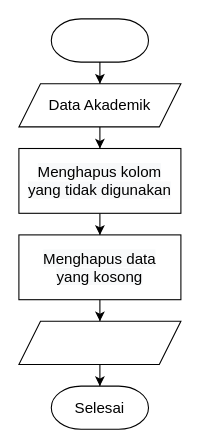
The diagram is 200 pixels wide and 448 high, and some of its shapes have lost their labels. Here are the shapes that lost their labels. From the top down, the box of each, then its label:
(50, 18, 148, 62): Mulai
(18, 320, 181, 364): Reducted Data
